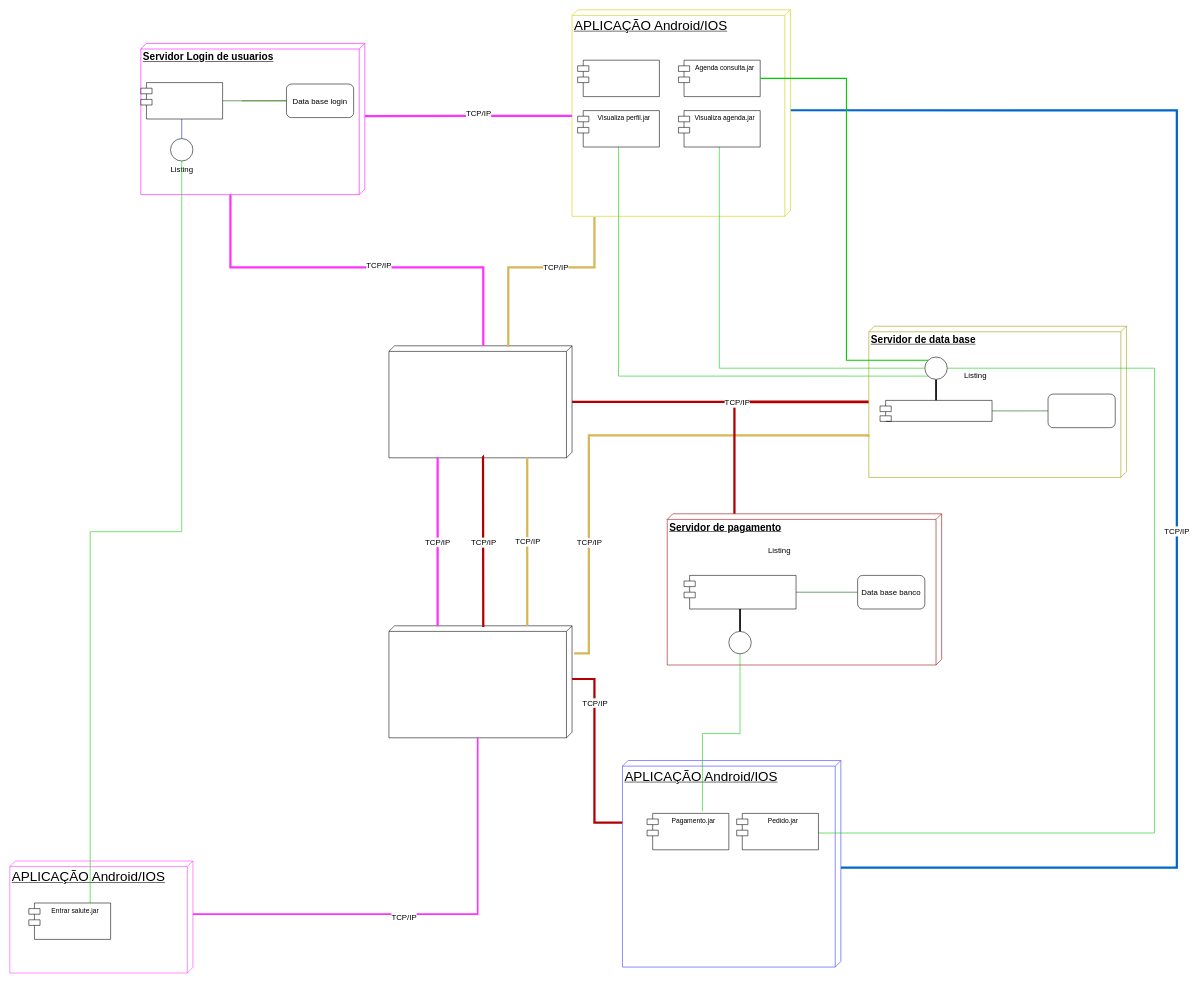
This 1200x983 diagram has some shape labels left out. Each missing label, with the centre of its shape:
"Area de Login" belongs at pixel 181 100.
"Dado cliente" belongs at pixel 739 592.
"Dados pessoas/consultas" belongs at pixel 935 410.
"Data base" belongs at pixel 1081 411.
"Home salute.jar" belongs at pixel 618 78.
"Servidor Comunicação" belongs at pixel 480 681.
"Servidor Firewall" belongs at pixel 480 401.
